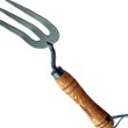Fork: (1, 2, 122, 125)
